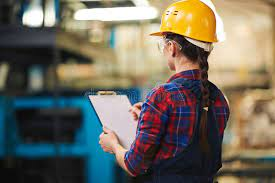Helmet: (145, 4, 218, 49)
No-jacket: (132, 77, 236, 183)
